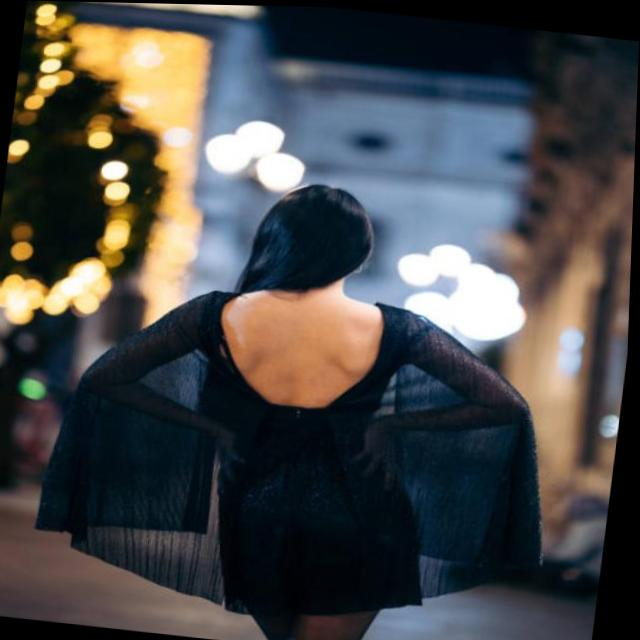no helmet: (242, 174, 378, 298)
